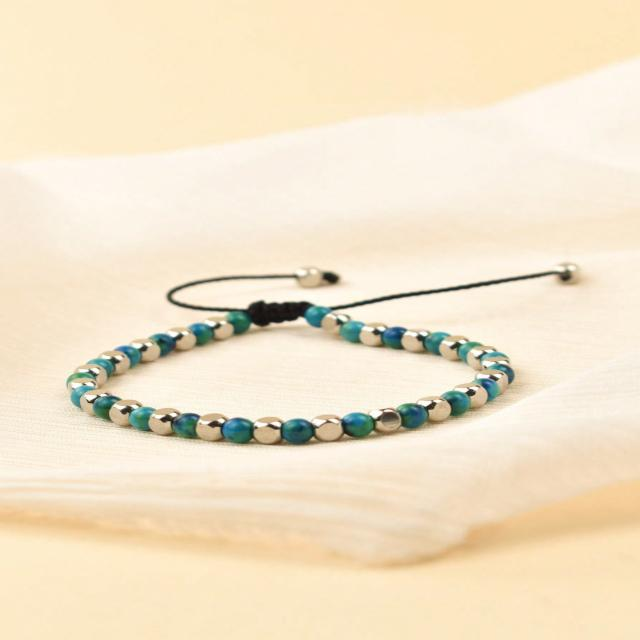bracelet: (27, 195, 640, 489)
